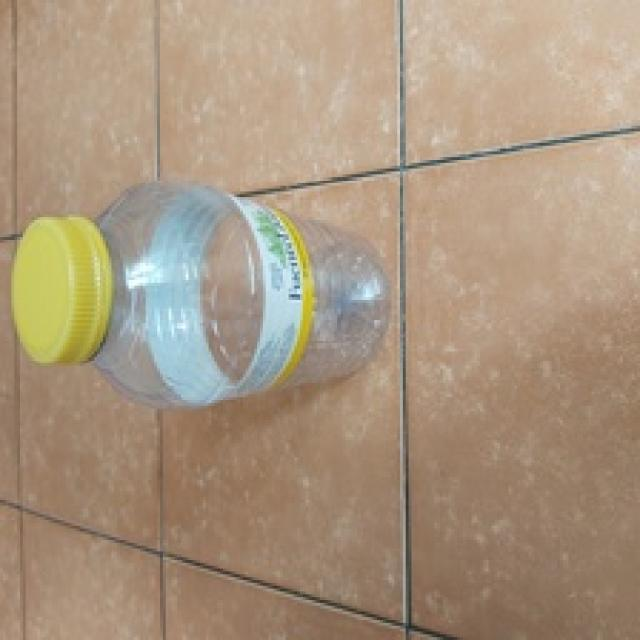garbage: (9, 139, 408, 422)
